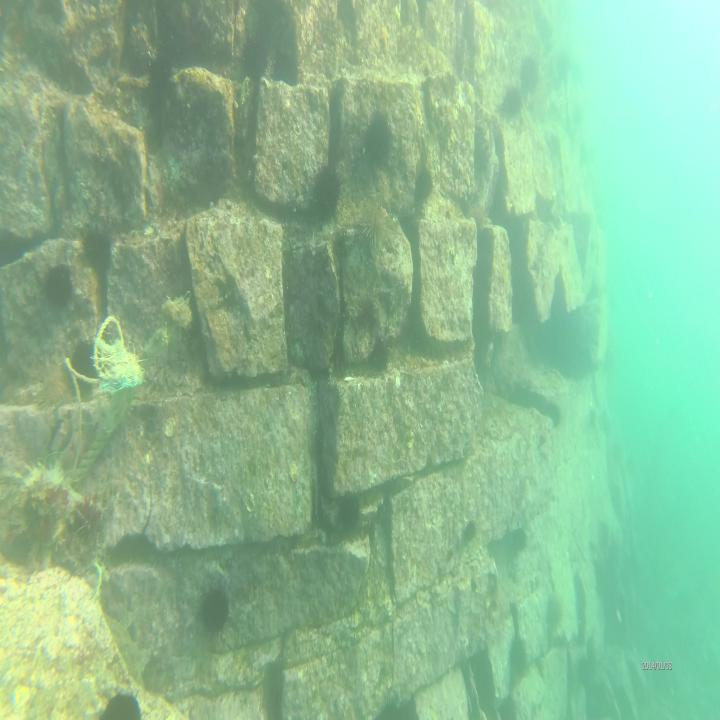echinus: (70, 337, 103, 397), (366, 106, 392, 173), (313, 166, 342, 225), (201, 583, 229, 637), (357, 202, 386, 252), (336, 488, 362, 542), (45, 262, 71, 316), (99, 689, 143, 720), (242, 31, 267, 84), (85, 226, 112, 272), (509, 634, 530, 684), (497, 84, 523, 124), (411, 165, 435, 206), (543, 596, 566, 636), (518, 52, 540, 93), (273, 48, 296, 84), (466, 202, 487, 236)
